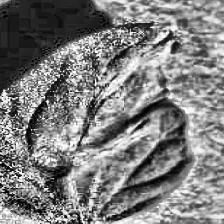disease: (0, 22, 193, 224)
